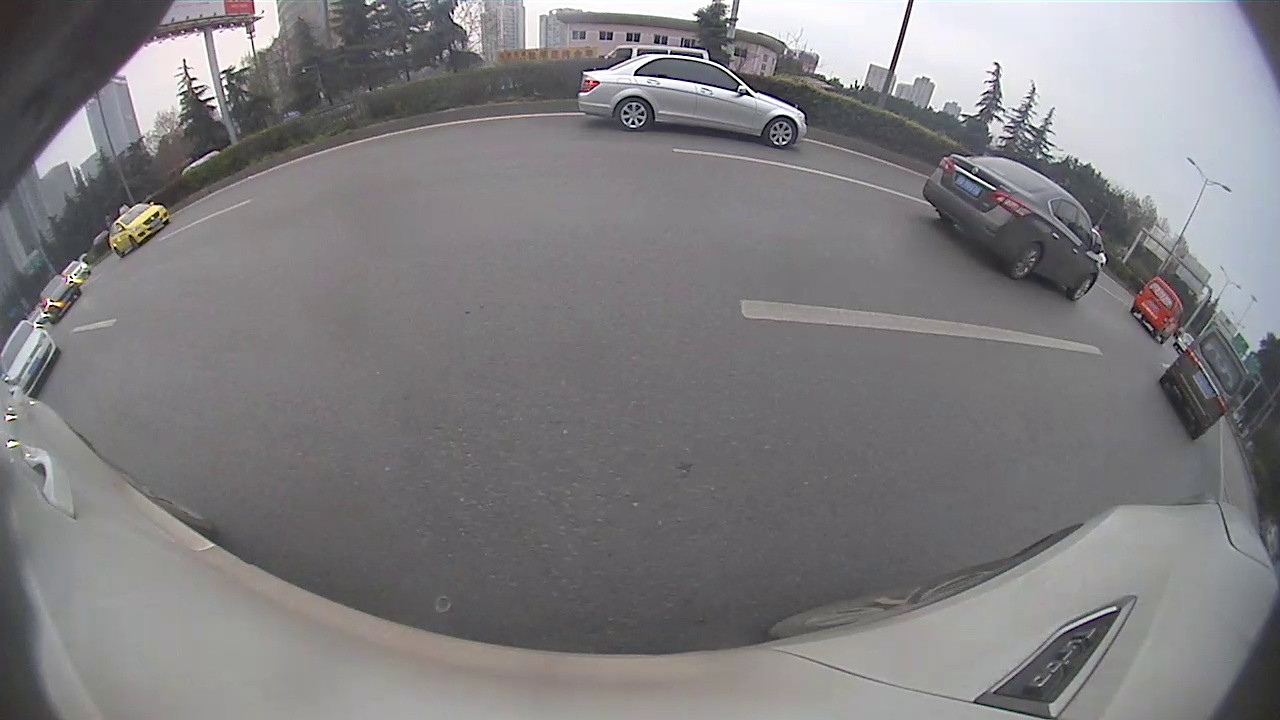car: (921, 154, 1103, 305), (577, 53, 809, 150), (1160, 326, 1247, 440), (1, 319, 60, 399), (1130, 272, 1185, 344), (106, 201, 167, 258)
front: (765, 117, 798, 149), (1071, 274, 1095, 302)
rear: (614, 96, 654, 133), (1009, 243, 1041, 281)
